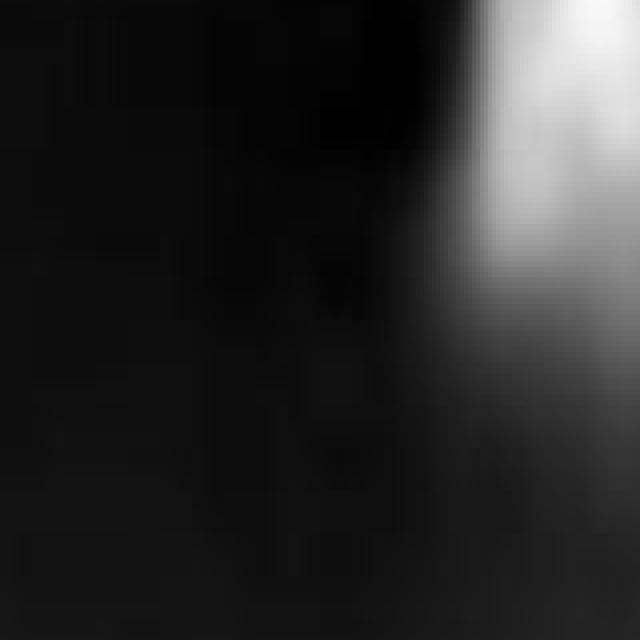person: (405, 1, 640, 550)
